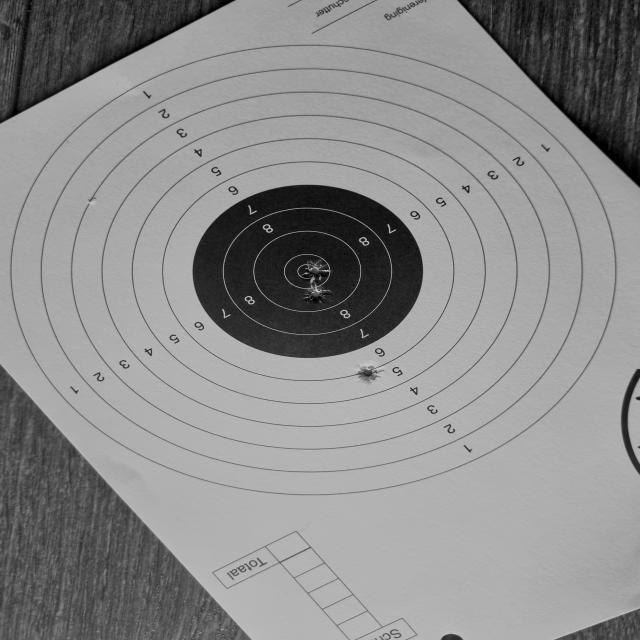10: (305, 259, 328, 283), (304, 284, 328, 304)
6: (354, 362, 382, 385)
Target: (7, 42, 616, 496)
black_contour: (190, 183, 422, 358)
